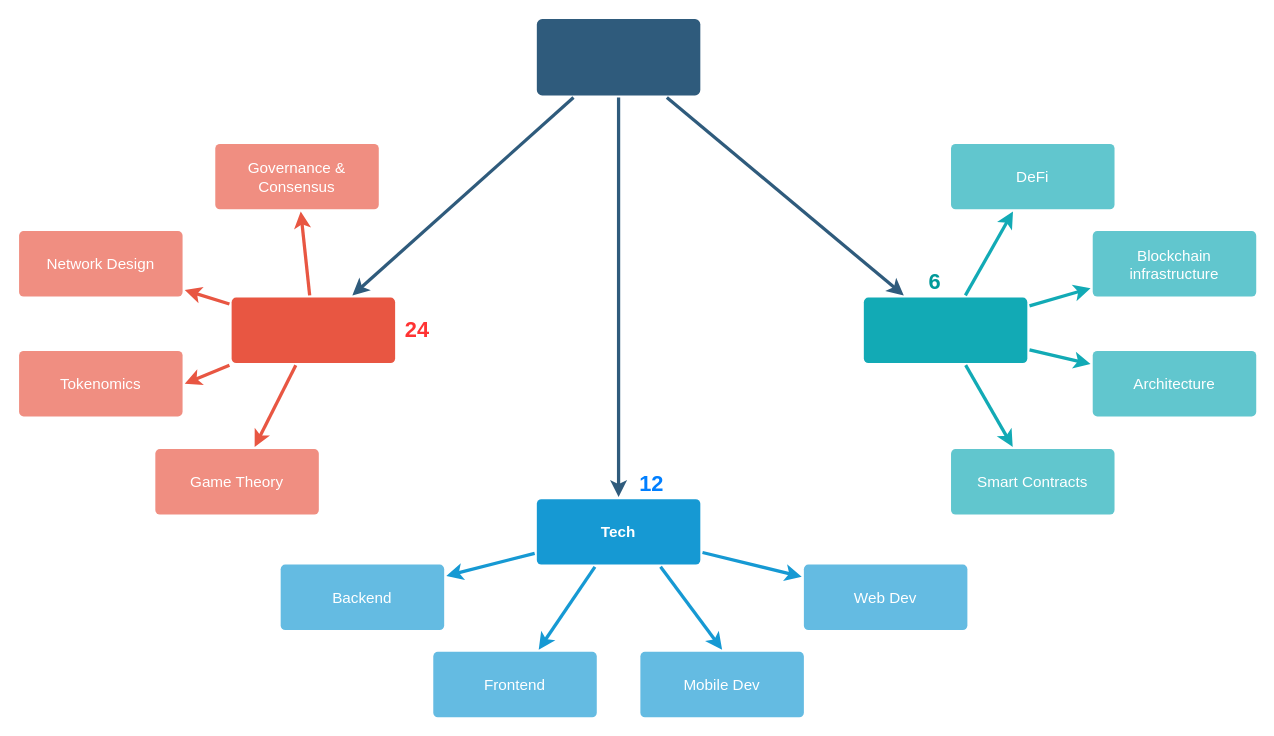
This 1274x736 diagram has some shape labels left out. Here are the shapes that lost their labels. From the top down, the centre of each, then its label:
the point at 618,57: Blockchain & Open-source
the point at 313,329: Protocol
the point at 945,329: Blockchain & DLT
